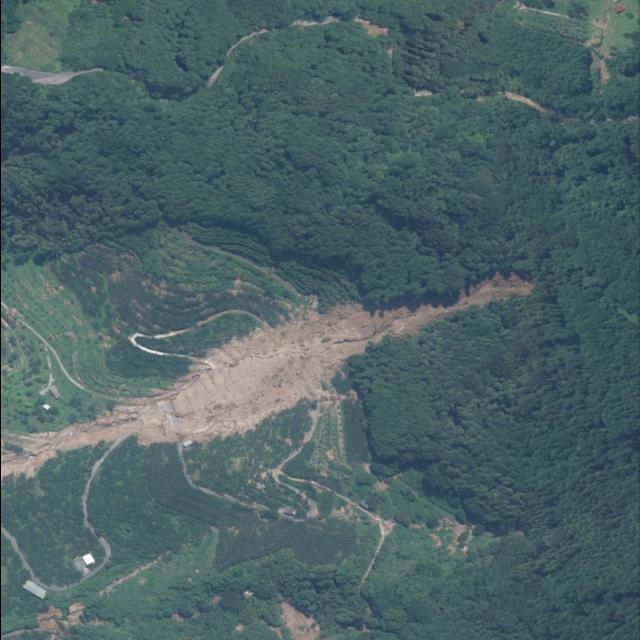landslide: (0, 273, 532, 478)
